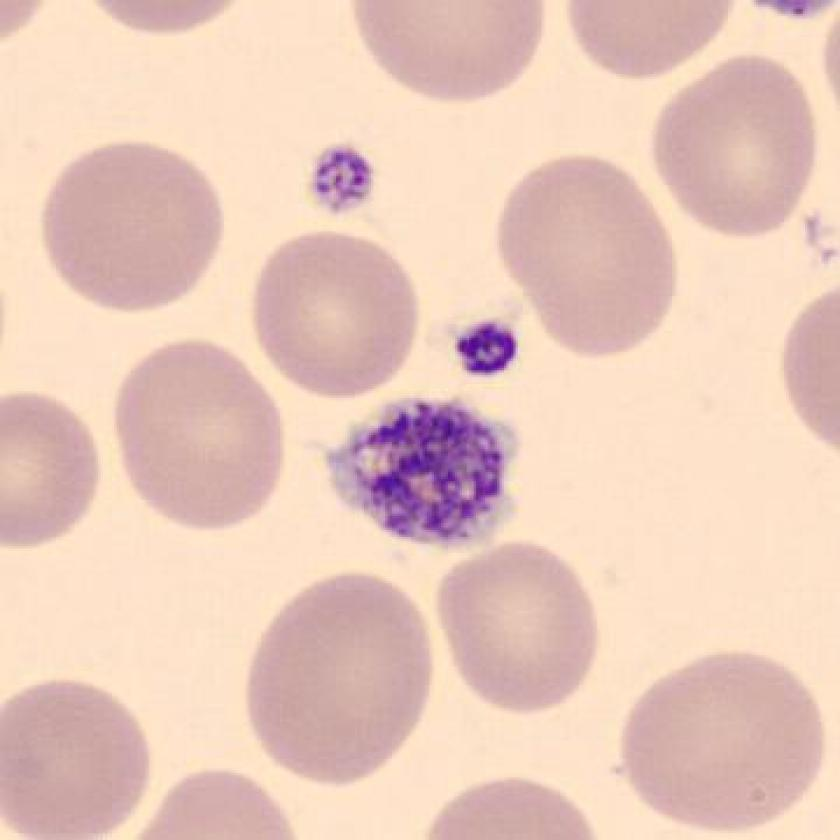platelets: (314, 388, 524, 559), (298, 129, 389, 226), (444, 304, 533, 388)
